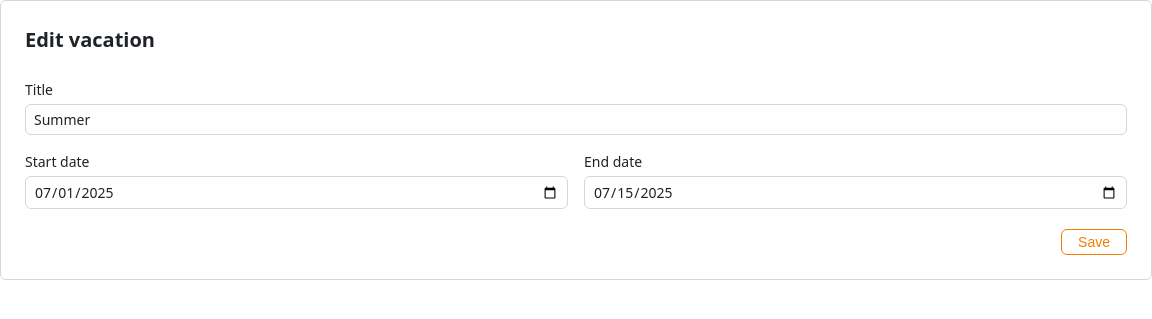
Test case: VacationForm › shows validation errors when submitting an emptied form
The image size is (1152, 319).
Clear the field with placeholder "Title" at (576, 120), box [25, 104, 1127, 135]
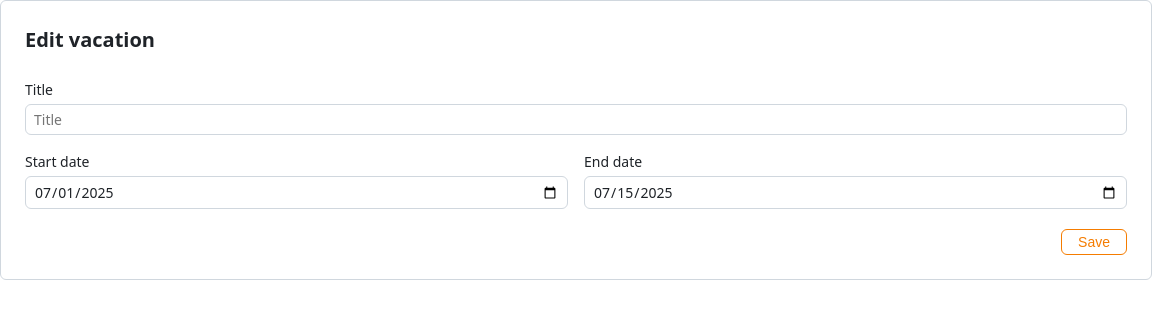
Submit the form, box [25, 79, 1127, 255]
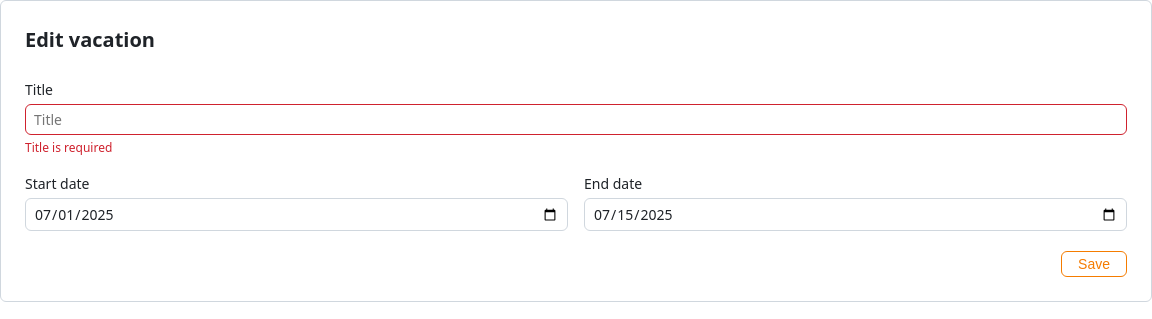
Now the text "Title is required" is shown, box [25, 139, 112, 156]
